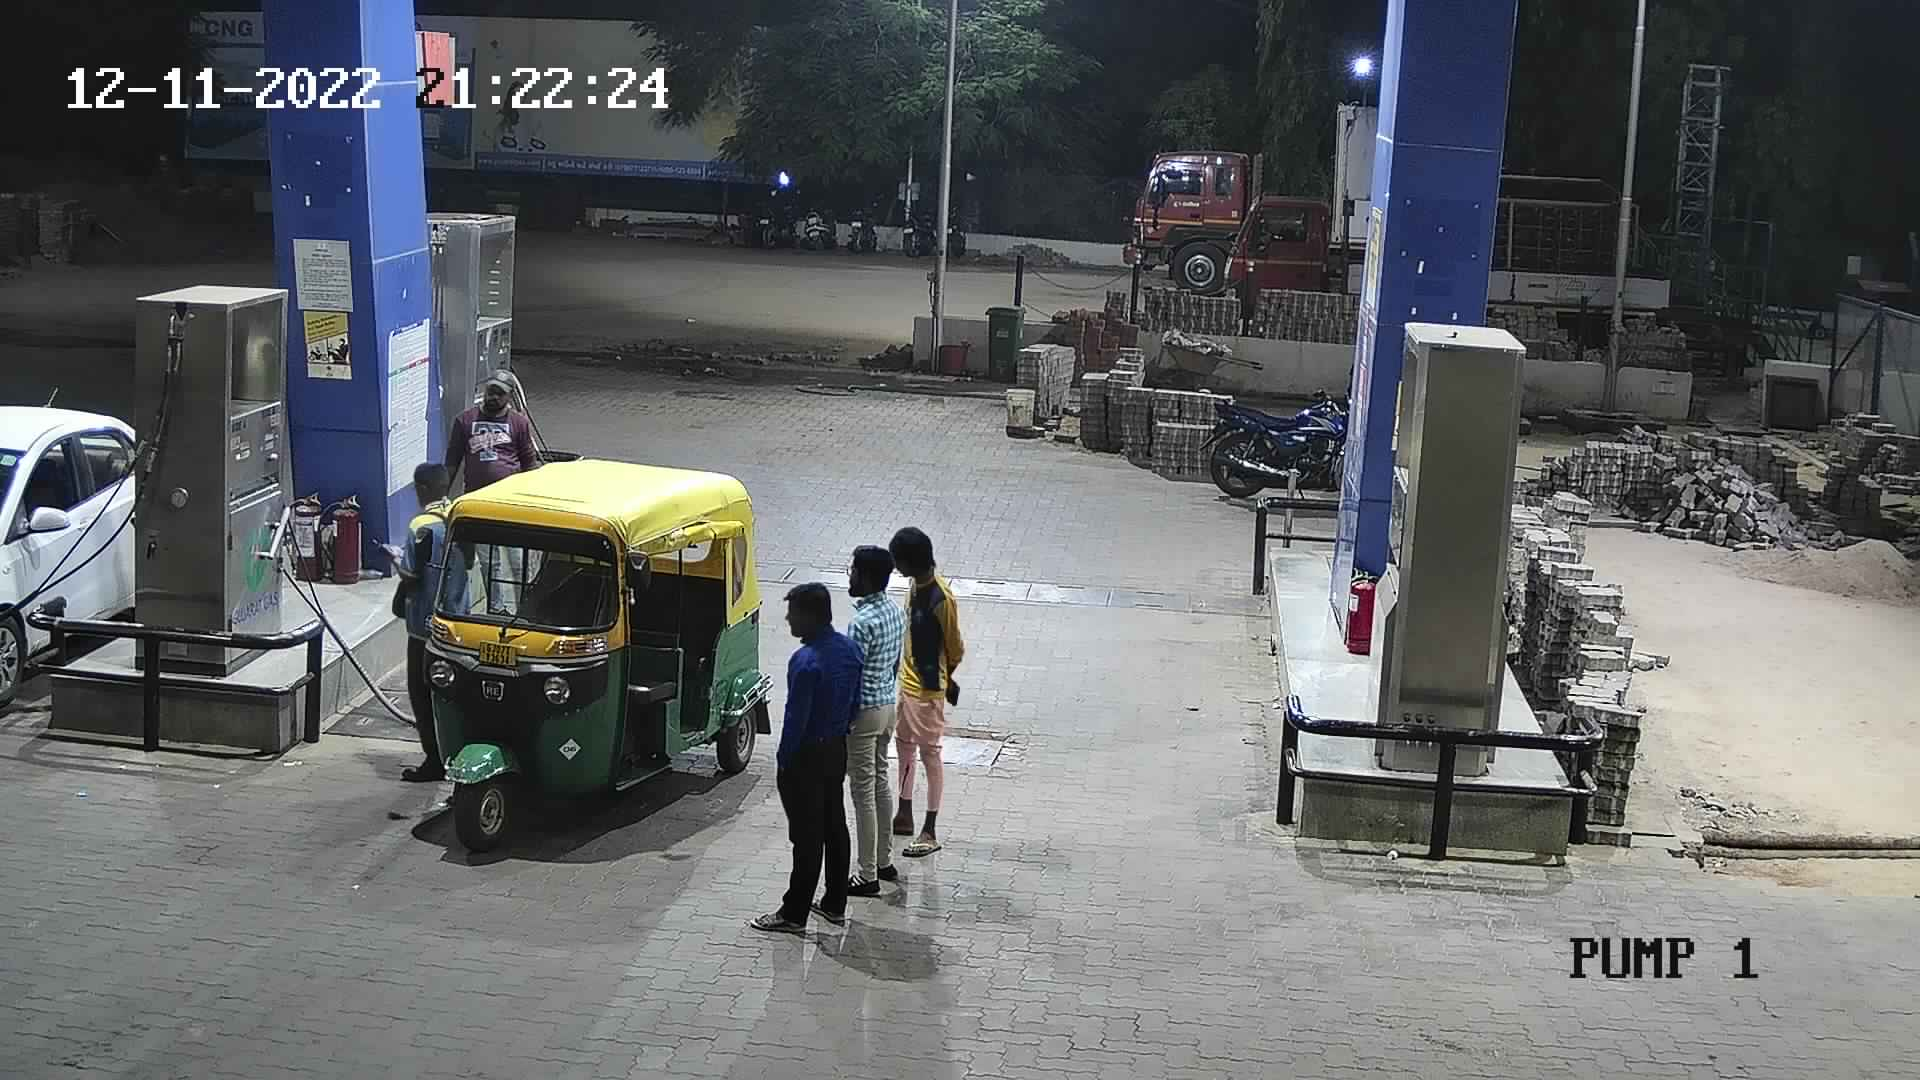Auto: (405, 450, 781, 864)
Bike: (1191, 368, 1375, 514), (744, 182, 806, 252), (837, 187, 891, 258), (891, 191, 944, 260), (796, 187, 844, 257)
Car: (0, 388, 169, 687)
HMV: (1110, 88, 1385, 305), (1204, 175, 1375, 334)
Others: (378, 454, 465, 787)
